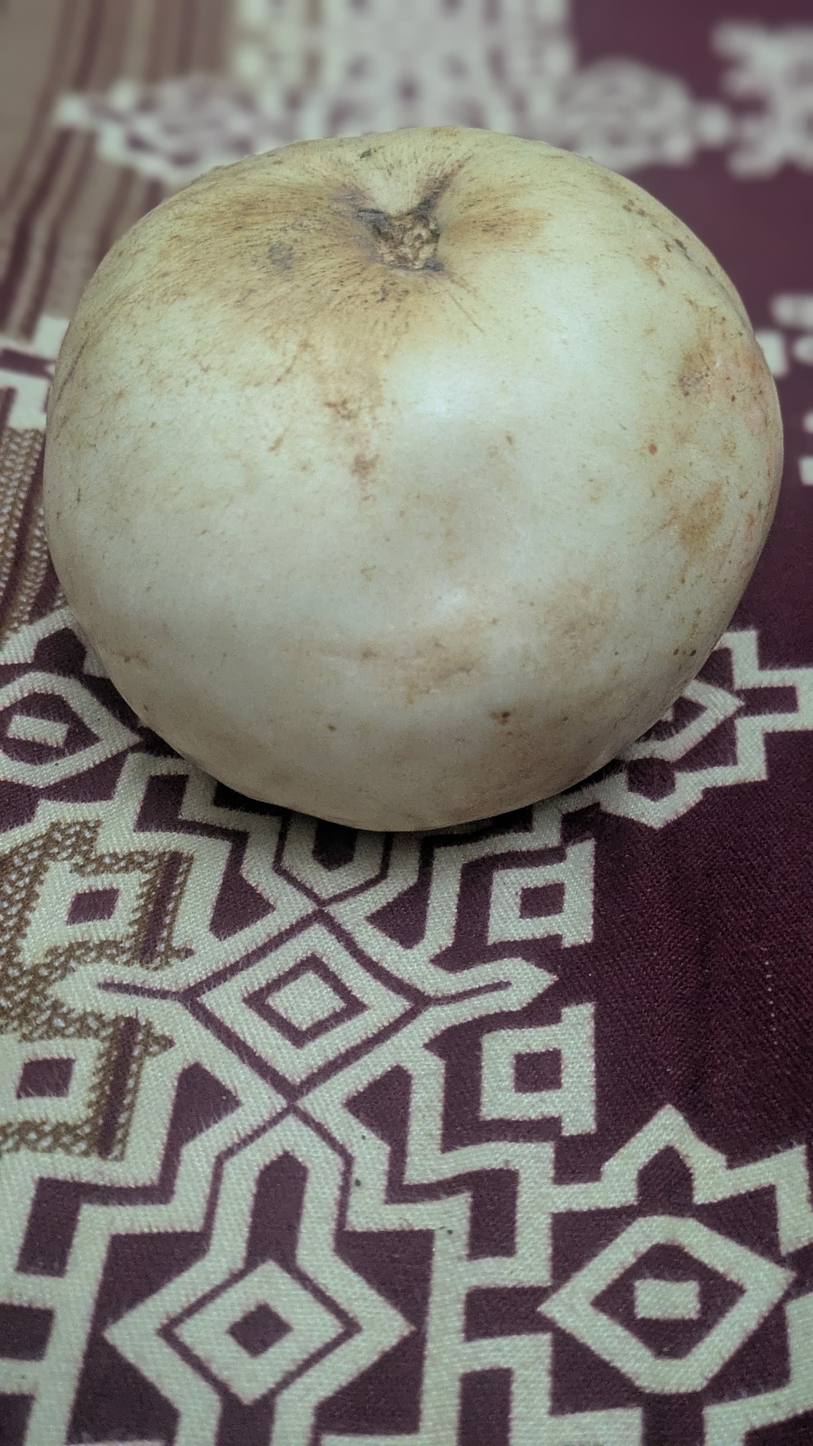guava: (18, 191, 677, 1246)
